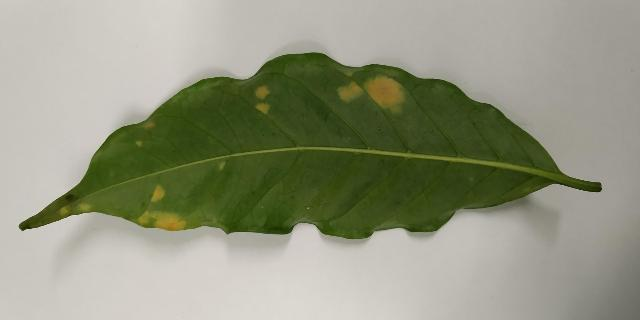miner: (338, 76, 405, 112), (138, 211, 186, 231), (151, 186, 165, 201), (256, 87, 268, 98), (78, 202, 91, 212), (257, 103, 268, 113), (59, 207, 69, 216), (145, 122, 153, 128), (137, 142, 141, 146)
